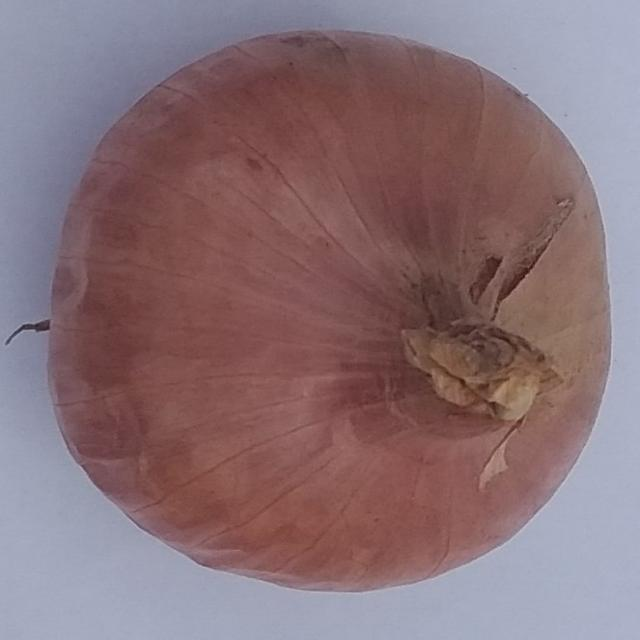onion: (40, 26, 616, 596)
